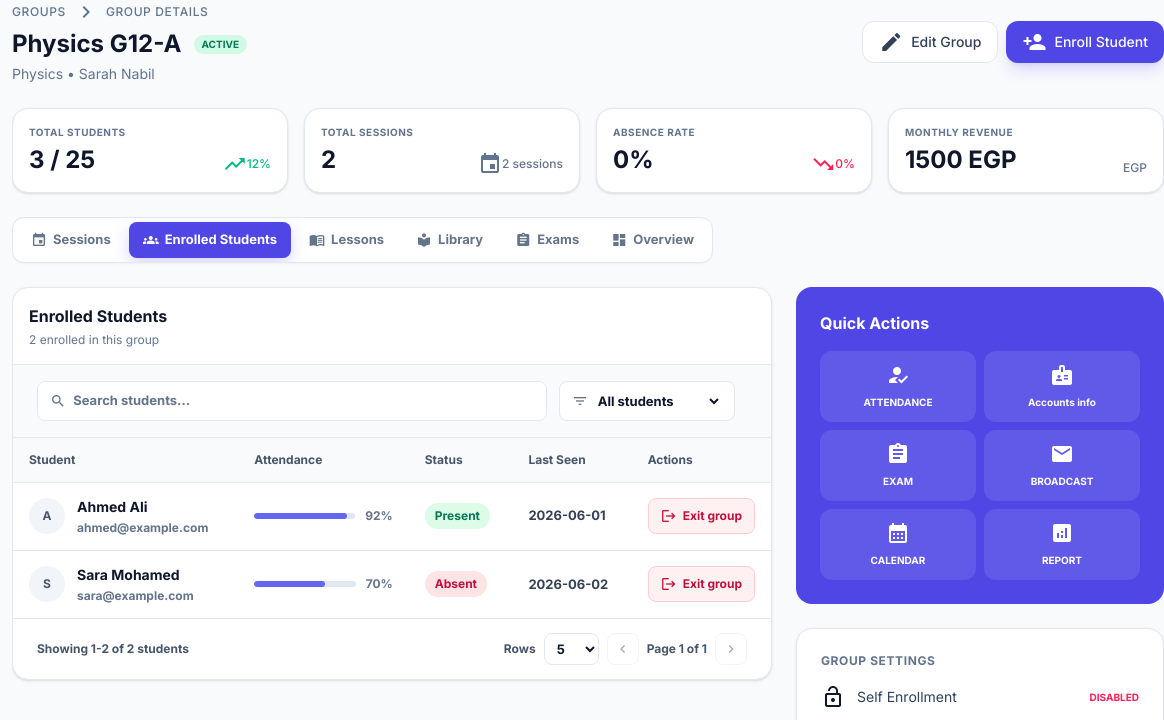
Test case: TenantGroupDetailsComponent › searches and filters enrolled students in the shared table
This screenshot has width=1164, height=720.
Type "sara" into the search field with placeholder "Search students...".
click(304, 401); type("sara")  # box [73,391,534,411]
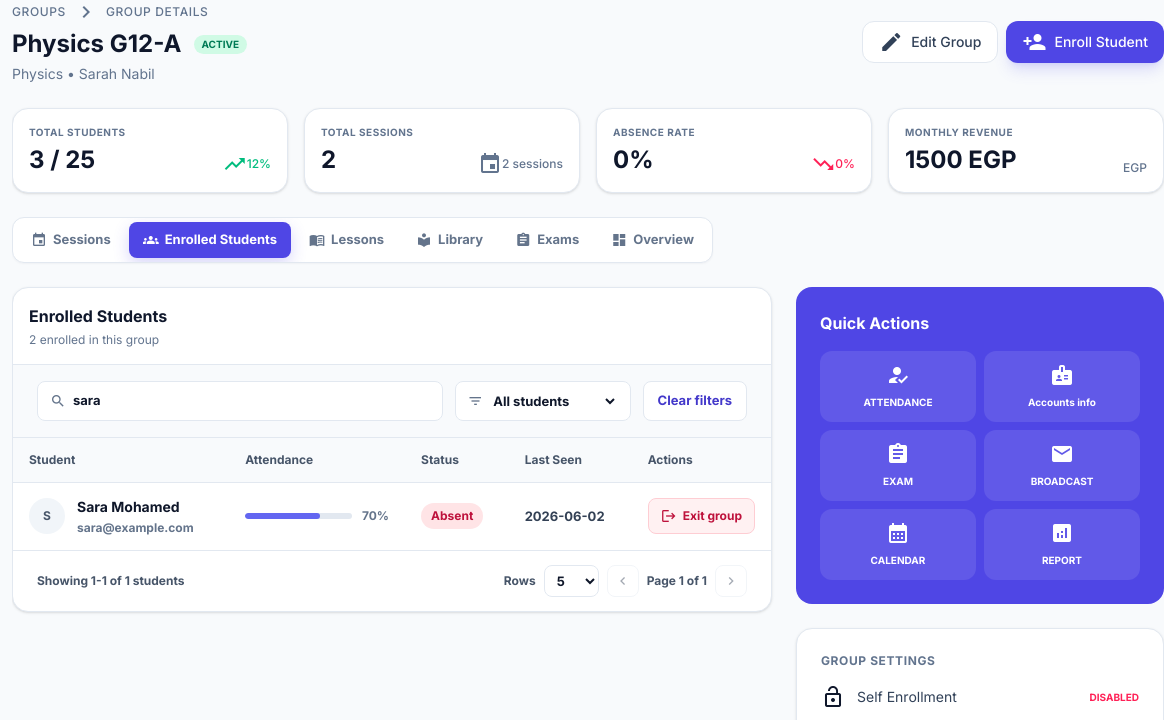
Check: the text "Sara Mohamed" is shown, box [77,498,180,515]
Check: the text "Ahmed Ali" is gone
Select "Present" in the 1st dropdown at [553, 401], box [489,392,618,410]
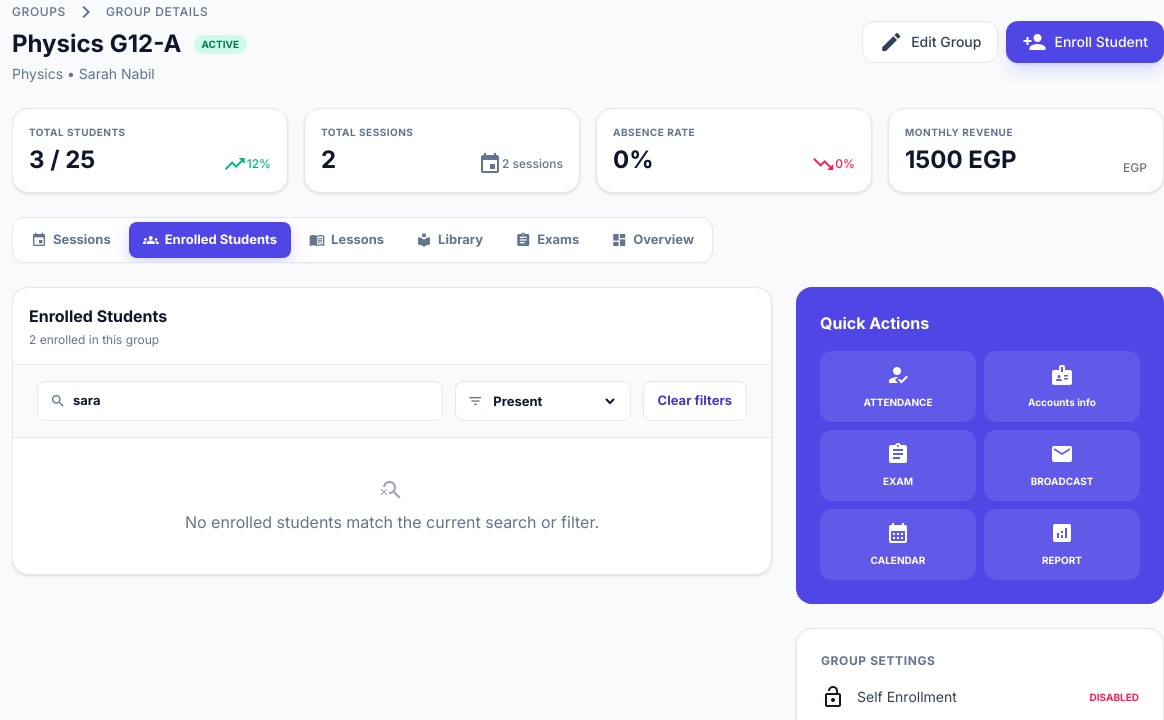
Check: the text "No enrolled students match the current search or filter." is shown, box [185,510,599,534]
